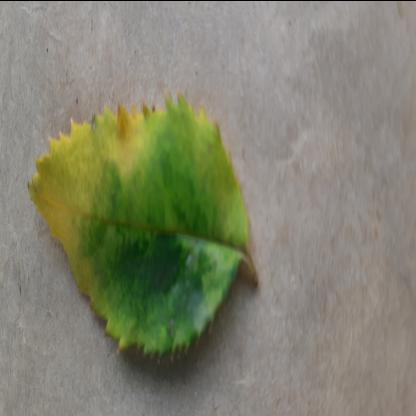black-spot: (26, 76, 254, 352)
